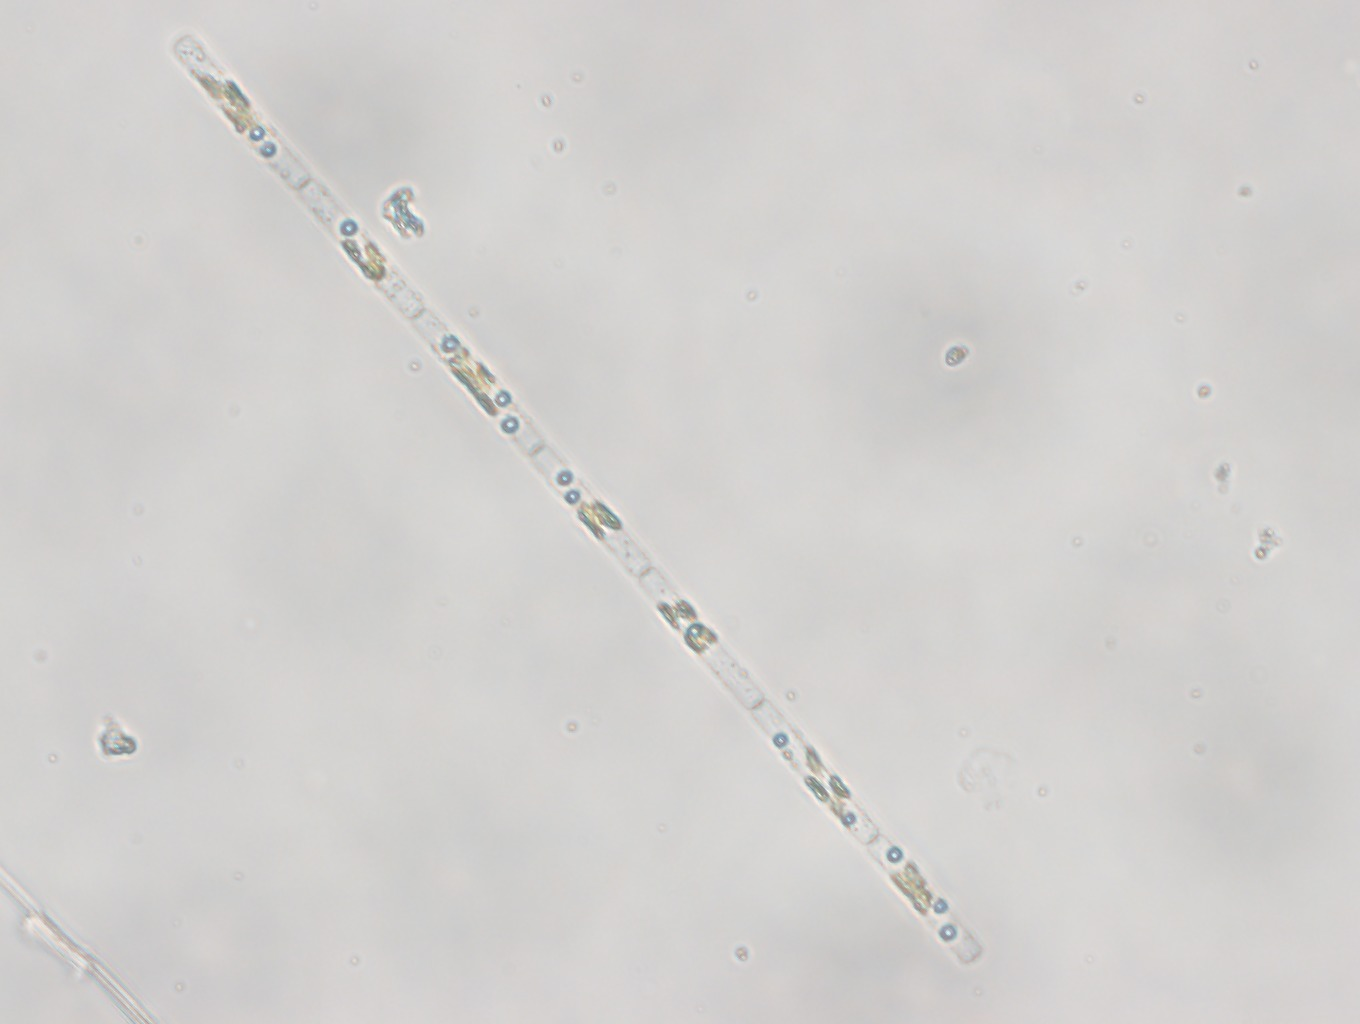guinardia flaccida: (167, 35, 983, 967)
